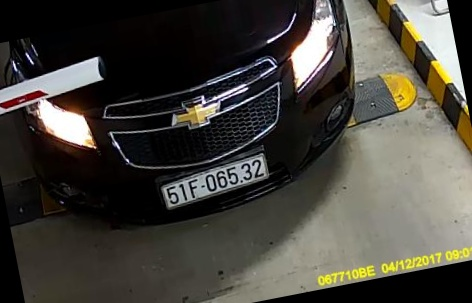plate: (150, 151, 274, 217)
